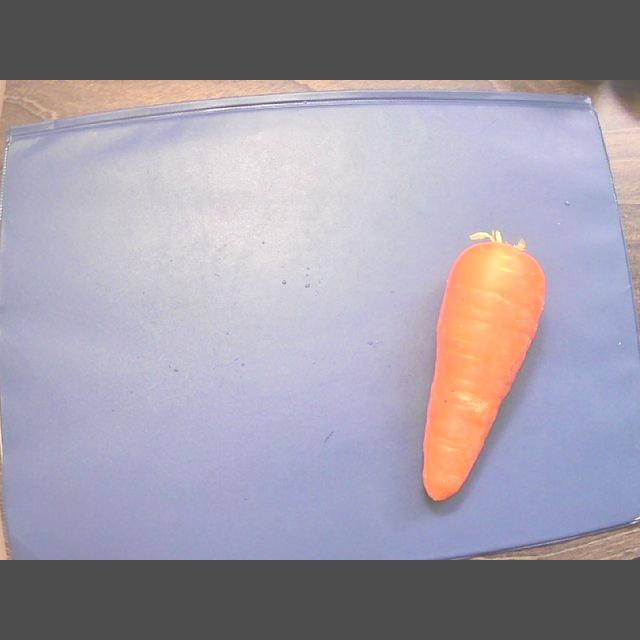zanahoria: (423, 230, 545, 499)
